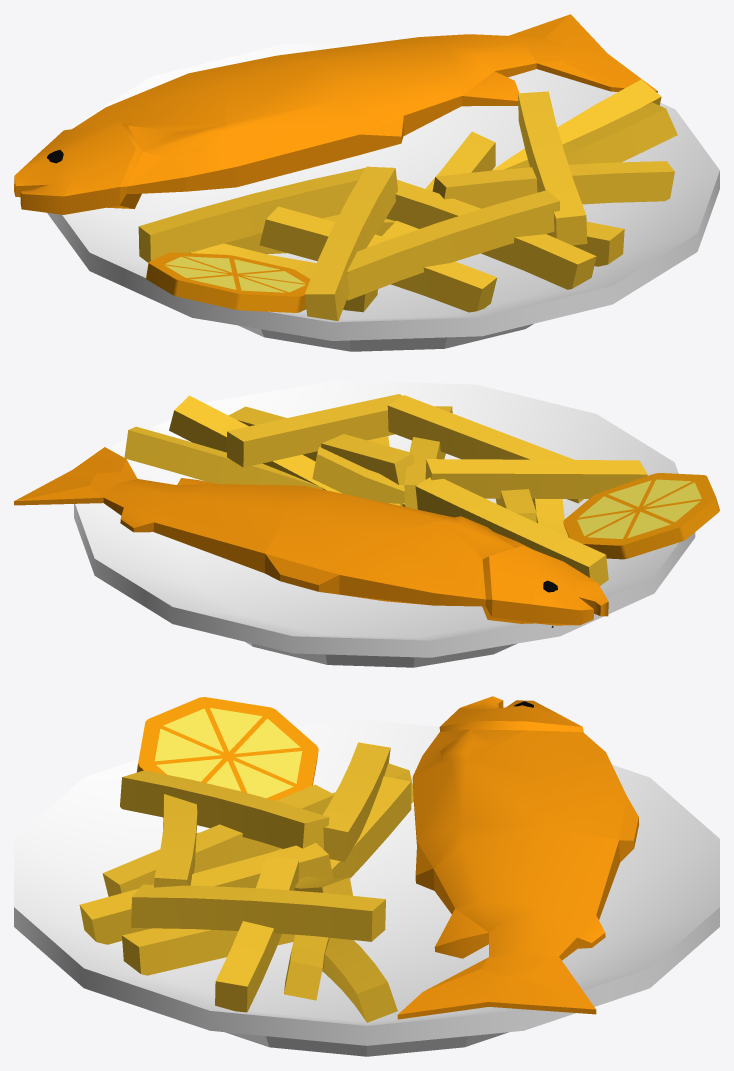
File: Fish_and_chips.fbx
3 renders of one model, top to bottom at view 1: azimuth 30°, elevation 25°; view 2: azimuth 150°, elevation 25°; view 3: azimuth 270°, elevation 25°, orthographic. The views are drawn at different scales.
Parts seen in each view (by area): view 1: Fish_and_chips; view 2: Fish_and_chips; view 3: Fish_and_chips.
Part boxes in pixels (x1=…): Fish_and_chips: x1=14, y1=14, x2=719, y2=351; Fish_and_chips: x1=14, y1=380, x2=719, y2=667; Fish_and_chips: x1=14, y1=696, x2=719, y2=1056.
Bounding box in the file's own units: 60.8 × 13.34 × 58.15.
